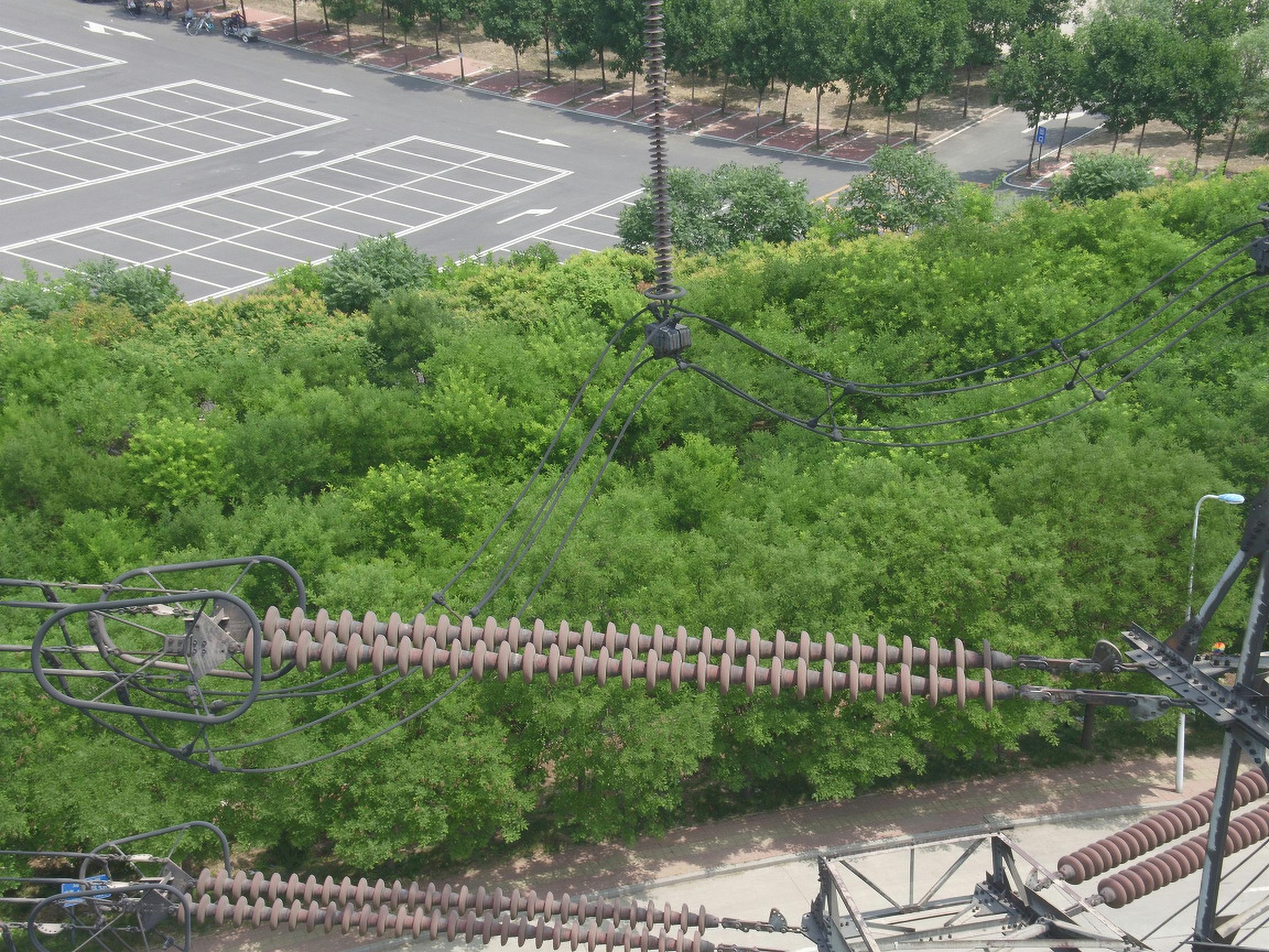insulator: (237, 602, 999, 717), (172, 865, 712, 952), (1054, 764, 1269, 912), (638, 1, 677, 291)
